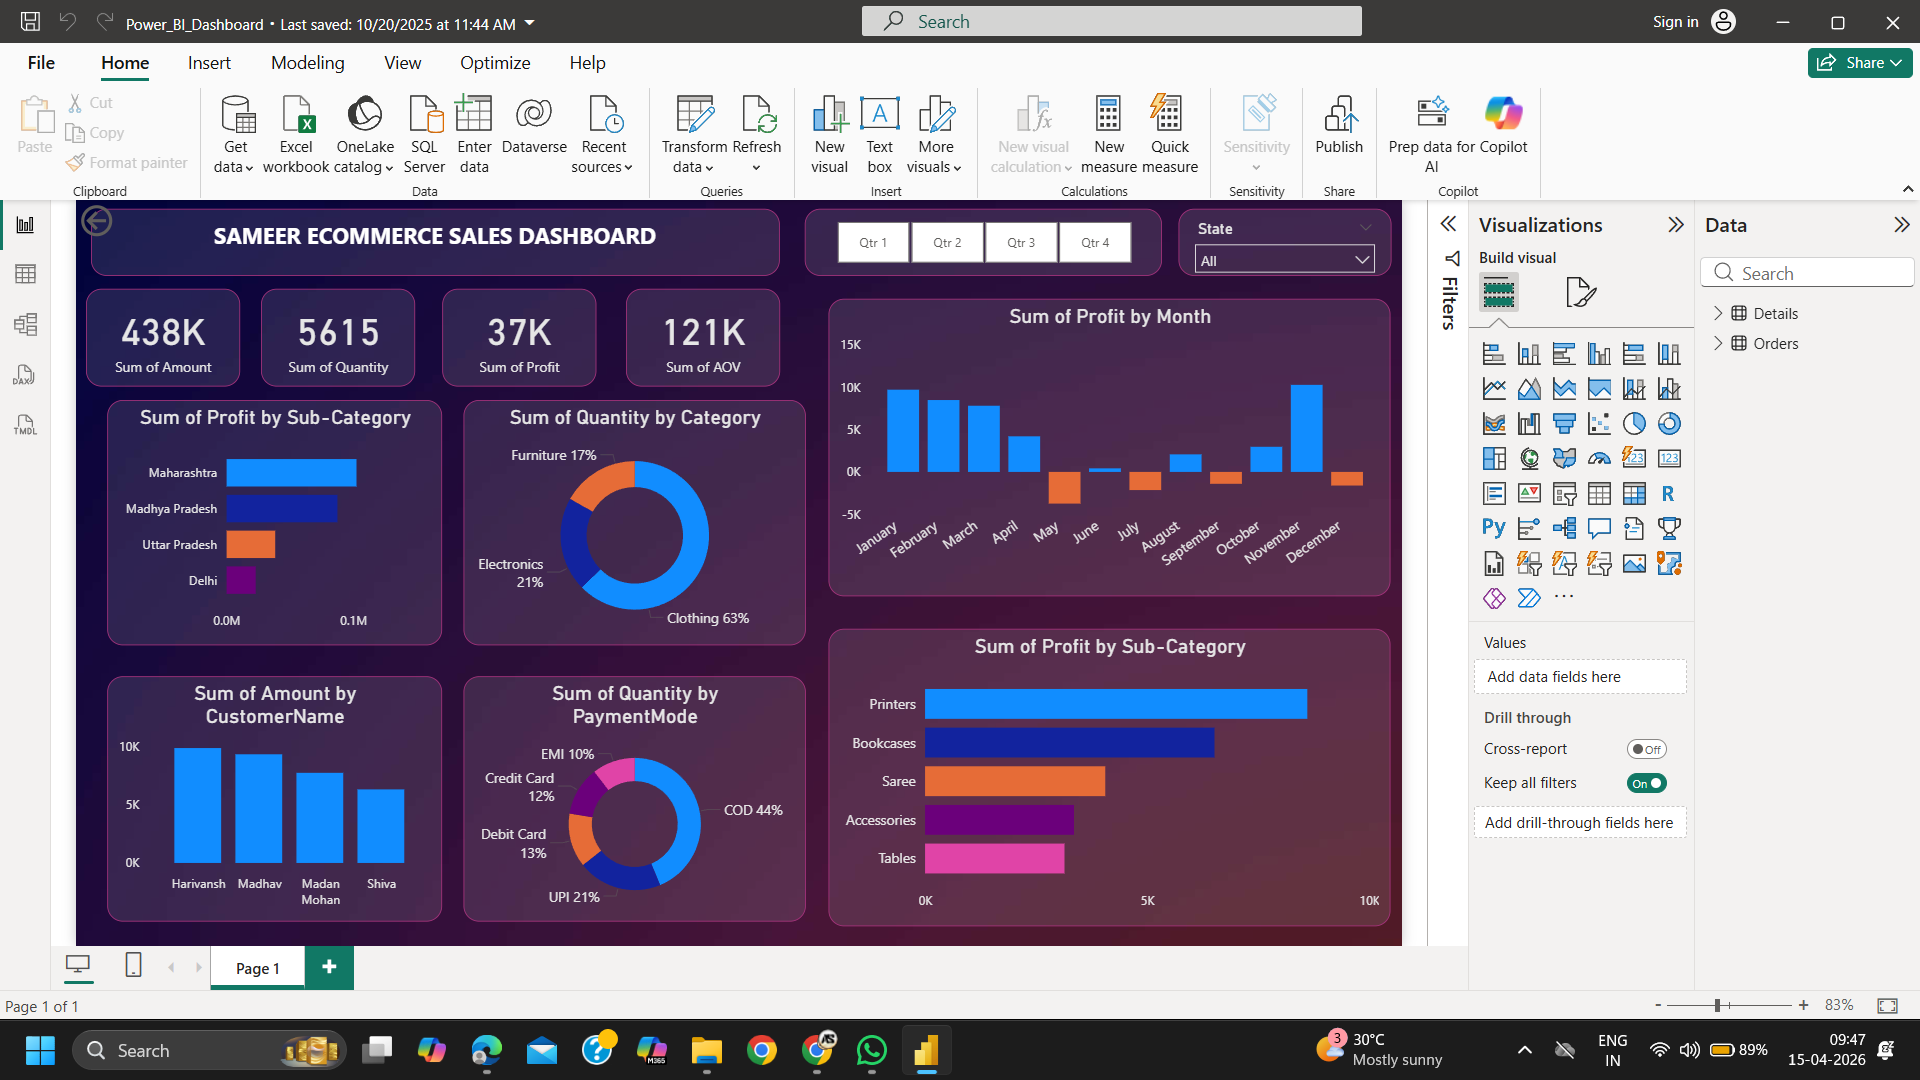

What the dashboard file says about the page in this screenshot:
{"tool":"powerbi","page":{"name":"Page 1","canvas":[1280,720],"ordinal":0},"visuals":[{"type":"textbox","box":[14.9,8.1,664.5,65],"z":0},{"type":"columnChart","fields":{"Y":["Sum(Details.Profit)"],"Category":["Orders.Order Date.Variation.Date Hierarchy.Month"]},"box":[726.8,94.7,542.7,286.9],"z":1000},{"type":"barChart","title":"Sum of Profit by Sub-Category ","fields":{"Category":["Details.Sub-Category"],"Y":["Sum(Details.Profit)"],"Series":["Details.Sub-Category"]},"box":[726.8,414.1,542.7,286.9],"z":2000},{"type":"donutChart","fields":{"Category":["Details.Category"],"Y":["Sum(Details.Quantity)"]},"box":[373.5,193.5,330.2,236.8],"z":3000},{"type":"donutChart","fields":{"Y":["Sum(Details.Quantity)"],"Category":["Details.PaymentMode"]},"box":[373.5,460.1,330.2,236.8],"z":3001},{"type":"card","fields":{"Values":["Sum(Details.Amount)"]},"box":[9.5,85.3,148.9,94.7],"z":3002},{"type":"card","fields":{"Values":["Sum(Details.Quantity)"]},"box":[178.6,85.3,148.9,94.7],"z":3003},{"type":"card","fields":{"Values":["Sum(Details.Profit)"]},"box":[353.2,85.3,148.9,94.7],"z":3004},{"type":"card","fields":{"Values":["Sum(Details.AOV)"]},"box":[530.5,85.3,148.9,94.7],"z":3005},{"type":"actionButton","box":[0,0,100,40],"z":3006},{"type":"barChart","title":"Sum of Profit by Sub-Category ","fields":{"Category":["Orders.State"],"Y":["Sum(Details.Amount)"],"Series":["Orders.State"]},"box":[29.8,193.5,323.5,236.8],"z":3007},{"type":"columnChart","fields":{"Category":["Orders.CustomerName"],"Y":["Sum(Details.Amount)"]},"box":[30,460,323,237],"z":3008},{"type":"slicer","fields":{"Values":["Orders.Order Date.Variation.Date Hierarchy.Quarter"]},"box":[703.7,8.1,345.1,65],"z":3009},{"type":"slicer","fields":{"Values":["Orders.State"]},"box":[1063.7,8.1,205.7,65],"z":3010}]}

Visuals, with their boxes on the page's 1280x720 design canvas (x1, y1, x2, y2). These are canvas units, not pixel positions in the 1920x1080 screenshot, which may show the page scaled, cropped or inside an application window:
textbox: x1=15 y1=8 x2=679 y2=73
columnChart - Sum(Details.Profit) x Orders.Order Date.Variation.Date Hierarchy.Month: x1=727 y1=95 x2=1270 y2=382
"Sum of Profit by Sub-Category " barChart: x1=727 y1=414 x2=1270 y2=701
donutChart - Details.Category x Sum(Details.Quantity): x1=374 y1=194 x2=704 y2=430
donutChart - Sum(Details.Quantity) x Details.PaymentMode: x1=374 y1=460 x2=704 y2=697
card - Sum(Details.Amount): x1=10 y1=85 x2=158 y2=180
card - Sum(Details.Quantity): x1=179 y1=85 x2=328 y2=180
card - Sum(Details.Profit): x1=353 y1=85 x2=502 y2=180
card - Sum(Details.AOV): x1=530 y1=85 x2=679 y2=180
actionButton: x1=0 y1=0 x2=100 y2=40
"Sum of Profit by Sub-Category " barChart: x1=30 y1=194 x2=353 y2=430
columnChart - Orders.CustomerName x Sum(Details.Amount): x1=30 y1=460 x2=353 y2=697
slicer - Orders.Order Date.Variation.Date Hierarchy.Quarter: x1=704 y1=8 x2=1049 y2=73
slicer - Orders.State: x1=1064 y1=8 x2=1269 y2=73
